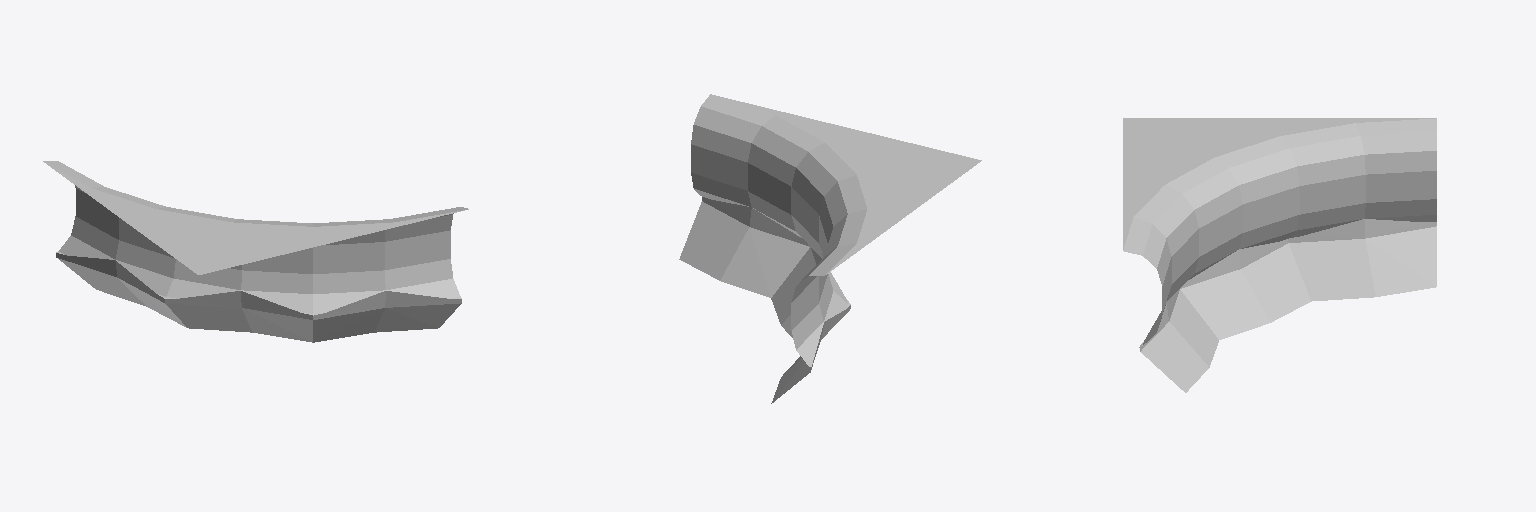
File: Terrain_Cliff_1_Tall_Corner_Inner_2x2.obj
The picture shows the model from 3 angles: view 1: azimuth 30°, elevation 25°; view 2: azimuth 150°, elevation 25°; view 3: azimuth 270°, elevation 25°; orthographic projection.
Parts seen in each view (by area): view 1: Grass, Rock; view 2: Grass, Rock; view 3: Grass, Rock.
Boxes of the visible parts, <box> form: Grass: <box>43,161,468,315</box>; Rock: <box>56,253,461,342</box>; Grass: <box>691,94,981,366</box>; Rock: <box>679,197,850,403</box>; Grass: <box>1123,118,1436,346</box>; Rock: <box>1139,219,1436,392</box>.
Bounding box in the file's own units: 2 × 1 × 2.